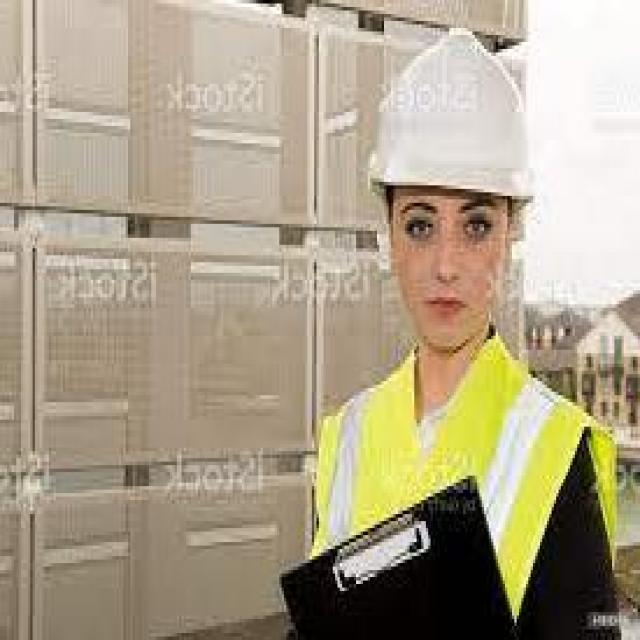Reflective-Jacket: (268, 339, 635, 637)
Safety-Helmet: (356, 21, 547, 217)
